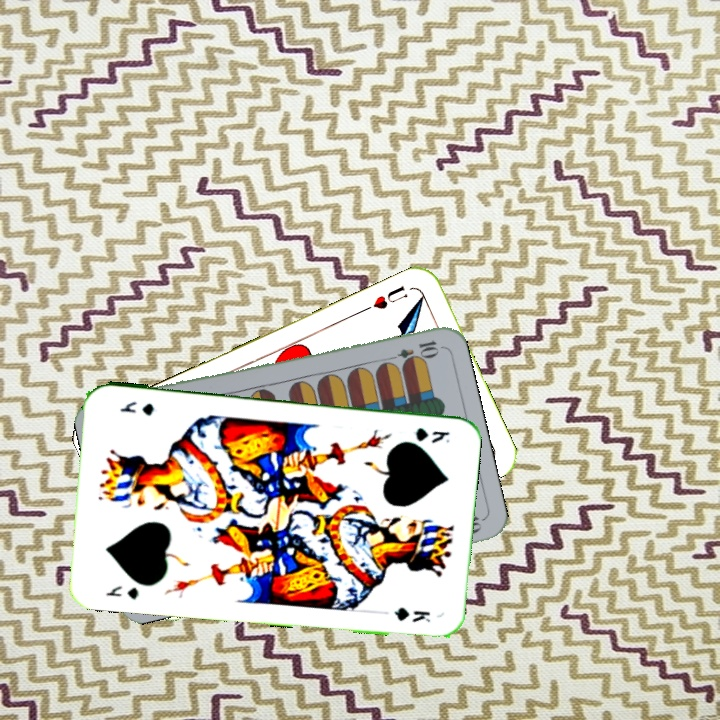E10: (382, 336, 441, 366)
GK: (411, 424, 452, 446), (102, 581, 141, 602)
HU: (359, 281, 411, 315)
